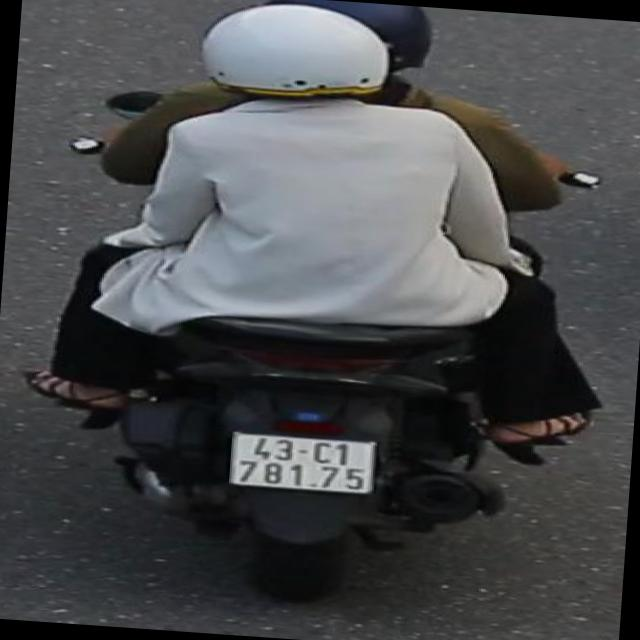LP: (226, 428, 388, 503)
helmet: (189, 0, 400, 123)
